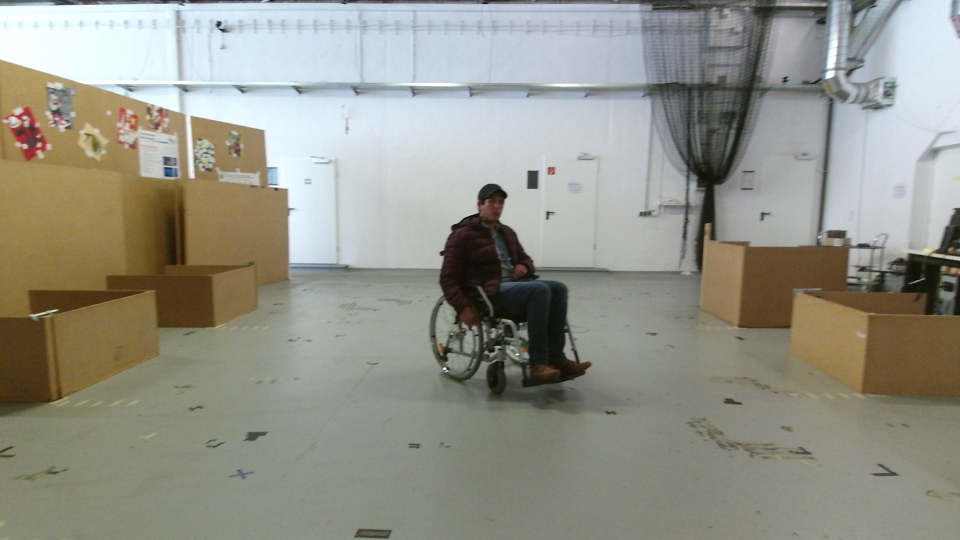wheelchair: (424, 178, 590, 402)
